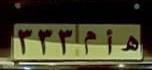3: (56, 28, 73, 57), (16, 27, 32, 57), (36, 28, 53, 55)
alif: (103, 27, 115, 56)
haa: (121, 30, 139, 53)
meem: (80, 28, 98, 58)
